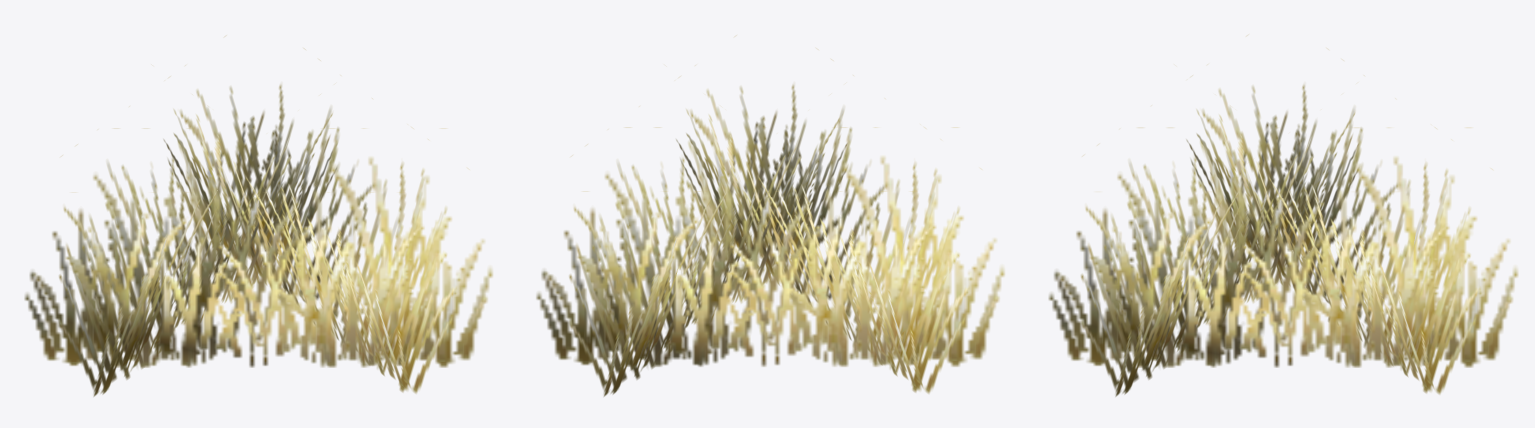
File: grass-12.glb
3 renders of one model, left to right at view 1: azimuth 30°, elevation 25°; view 2: azimuth 150°, elevation 25°; view 3: azimuth 270°, elevation 25°, orthographic.
Parts seen in each view (by area): view 1: grass_la_tall_a; view 2: grass_la_tall_a; view 3: grass_la_tall_a.
Part boxes in pixels (bbox=[...]): grass_la_tall_a: bbox=[24, 35, 492, 396]; grass_la_tall_a: bbox=[536, 35, 1004, 396]; grass_la_tall_a: bbox=[1048, 35, 1518, 396].
Bounding box in the file's own units: 6.92 × 3.22 × 6.82.
Materials: 1 (1 with a texture image).
